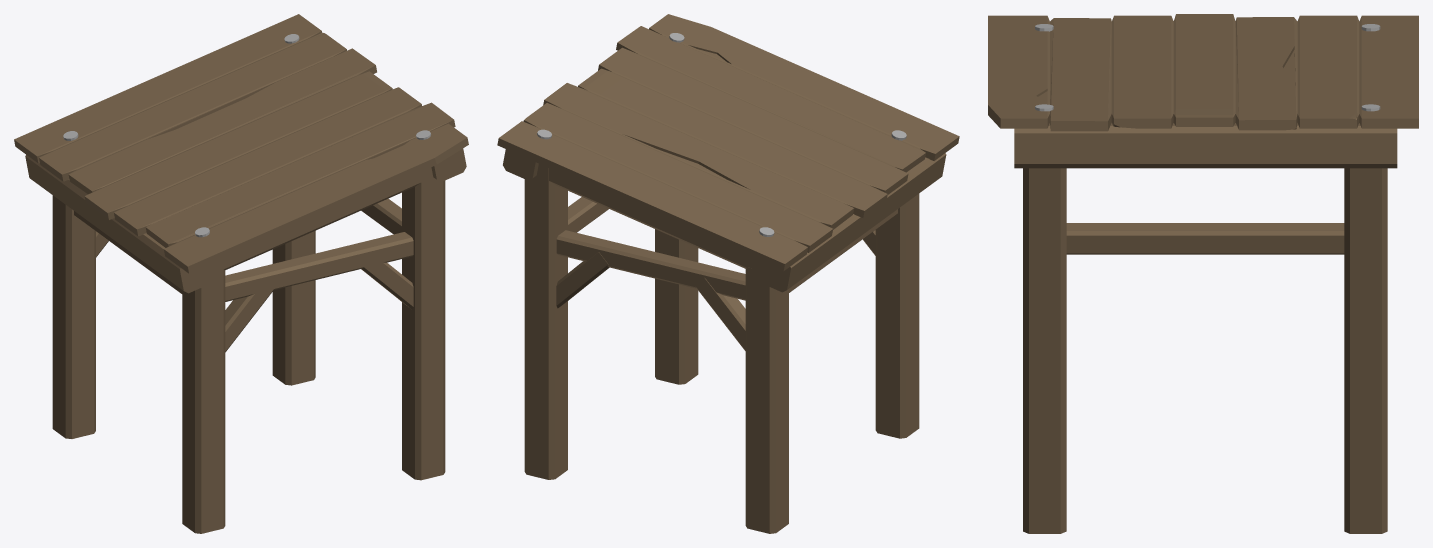
File: Cover 2.fbx
The picture shows the model from 3 angles, left to right: view 1: azimuth 30°, elevation 25°; view 2: azimuth 150°, elevation 25°; view 3: azimuth 270°, elevation 25°; orthographic projection. The views are drawn at different scales.
Visible parts, largest first — view 1: Cover 2; view 2: Cover 2; view 3: Cover 2.
Boxes of the visible parts, <box> form: Cover 2: <box>14,14,468,533</box>; Cover 2: <box>497,14,959,533</box>; Cover 2: <box>988,14,1418,533</box>.
Bounding box in the file's own units: 3.56 × 3.91 × 3.6.
